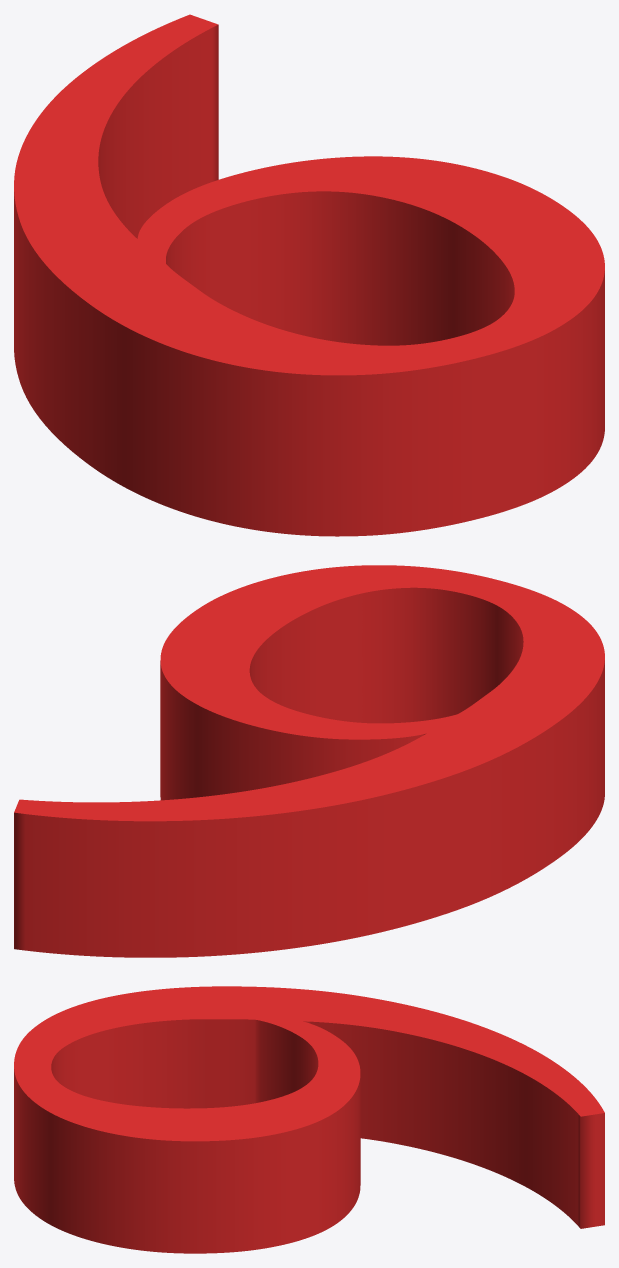
Rendered from six.glb.
The picture shows the model from 3 angles, top to bottom: view 1: azimuth 30°, elevation 25°; view 2: azimuth 150°, elevation 25°; view 3: azimuth 270°, elevation 25°; orthographic projection. The views are drawn at different scales.
Parts seen in each view (by area): view 1: Текст; view 2: Текст; view 3: Текст.
Part boxes in pixels (bbox=[...]): Текст: bbox=[14, 14, 604, 536]; Текст: bbox=[14, 565, 604, 957]; Текст: bbox=[14, 986, 604, 1253].
Bounding box in the file's own units: 0.3553 × 0.12 × 0.5725.
